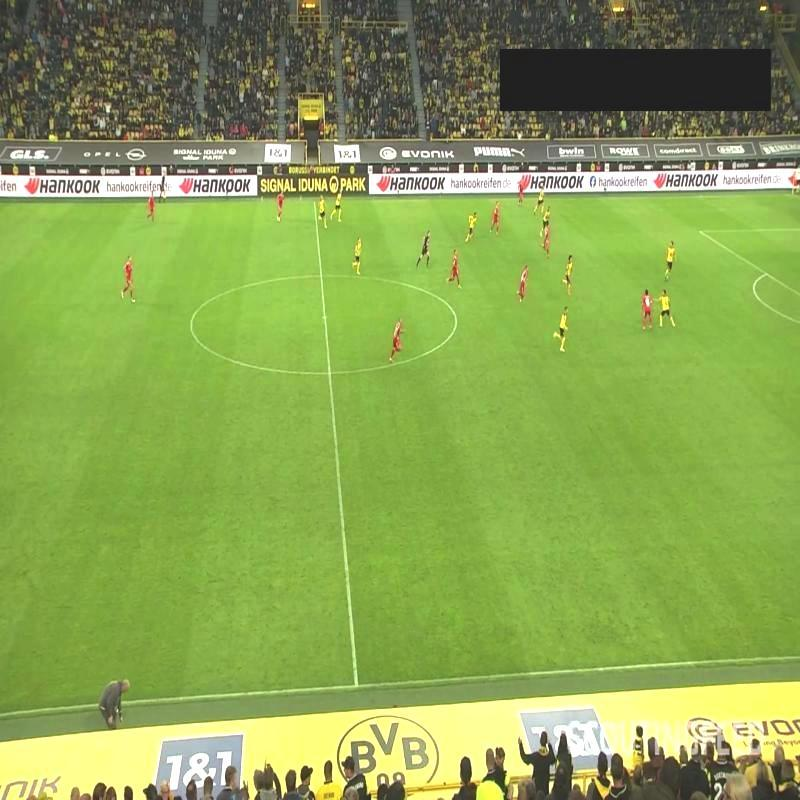1: (785, 188, 799, 202)
10: (757, 264, 777, 284)
13: (308, 192, 322, 206)
14: (312, 268, 330, 285)
15: (321, 364, 338, 381)
16: (346, 675, 368, 699)
9: (692, 224, 708, 240)
c: (446, 306, 465, 328), (184, 316, 198, 332)
